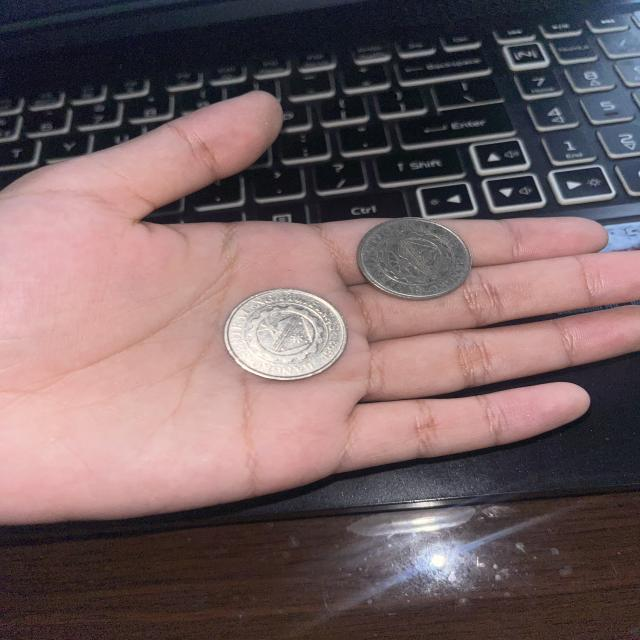1_Old_Back: (233, 294, 337, 372), (372, 221, 456, 294)
